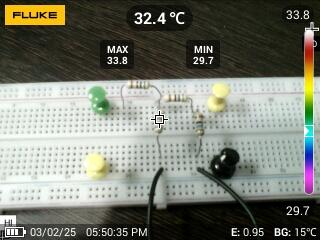resistor: (123, 78, 153, 92), (161, 92, 192, 105), (152, 112, 169, 134), (193, 109, 205, 138)
